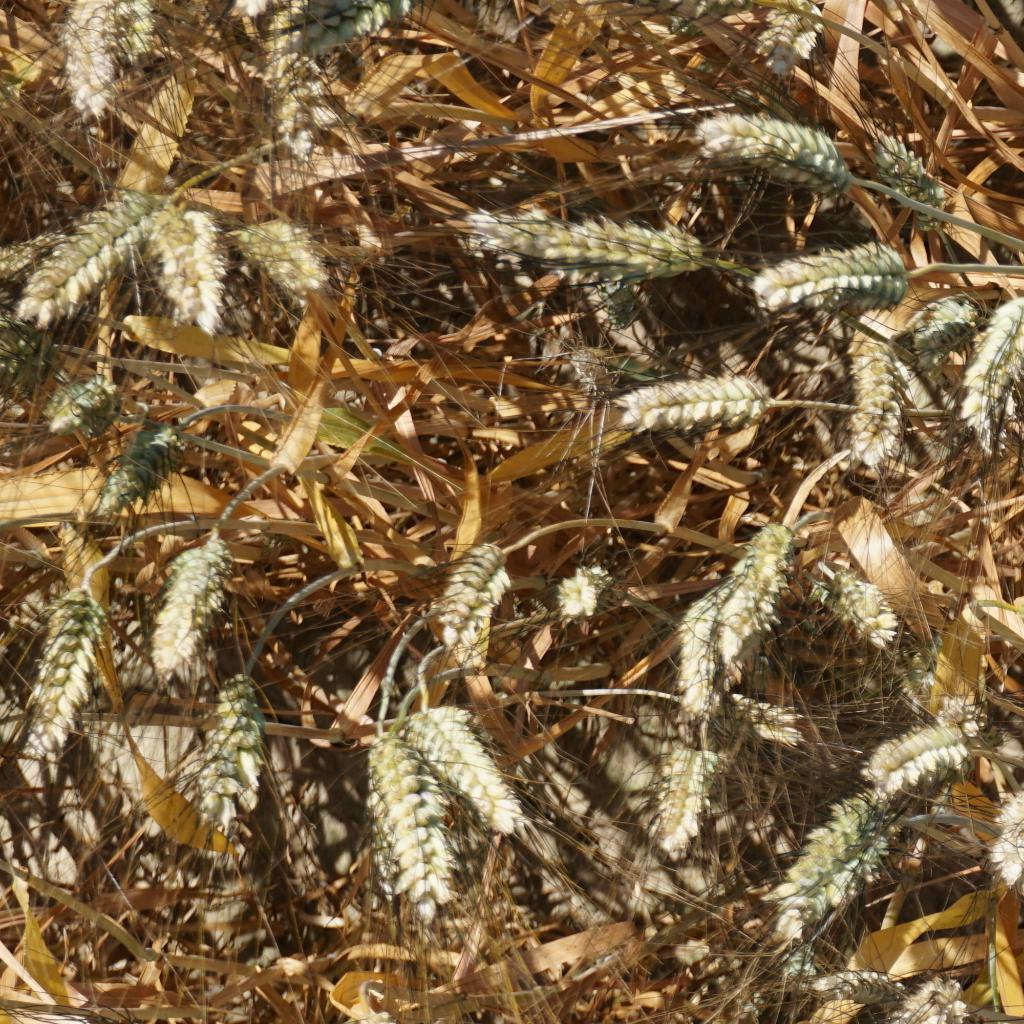0-0: (367, 733, 470, 938), (18, 583, 116, 766), (15, 195, 139, 336), (412, 711, 536, 839), (467, 203, 709, 268), (695, 102, 857, 199), (779, 803, 903, 923), (145, 534, 237, 688), (197, 665, 284, 826), (742, 240, 917, 312), (860, 111, 955, 237), (429, 537, 518, 658), (247, 59, 345, 168), (618, 361, 768, 429), (847, 335, 912, 476), (152, 196, 226, 318), (719, 524, 799, 636), (972, 283, 1024, 452), (48, 0, 118, 118), (214, 217, 323, 290), (100, 423, 182, 513), (868, 719, 958, 792), (668, 591, 726, 702), (711, 681, 804, 746), (824, 571, 901, 649), (661, 732, 712, 848), (259, 0, 382, 48), (760, 0, 833, 75), (579, 260, 651, 329), (876, 969, 964, 1024), (815, 952, 892, 1005), (914, 287, 974, 354), (985, 779, 1024, 880), (548, 564, 611, 620), (564, 336, 618, 400), (943, 689, 998, 751), (42, 374, 100, 432), (116, 0, 156, 82), (252, 515, 312, 552), (766, 945, 812, 992), (1009, 568, 1024, 664), (356, 1010, 422, 1024)
